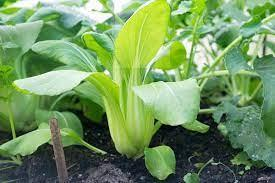Healthy-Pechay: (2, 0, 271, 116)
